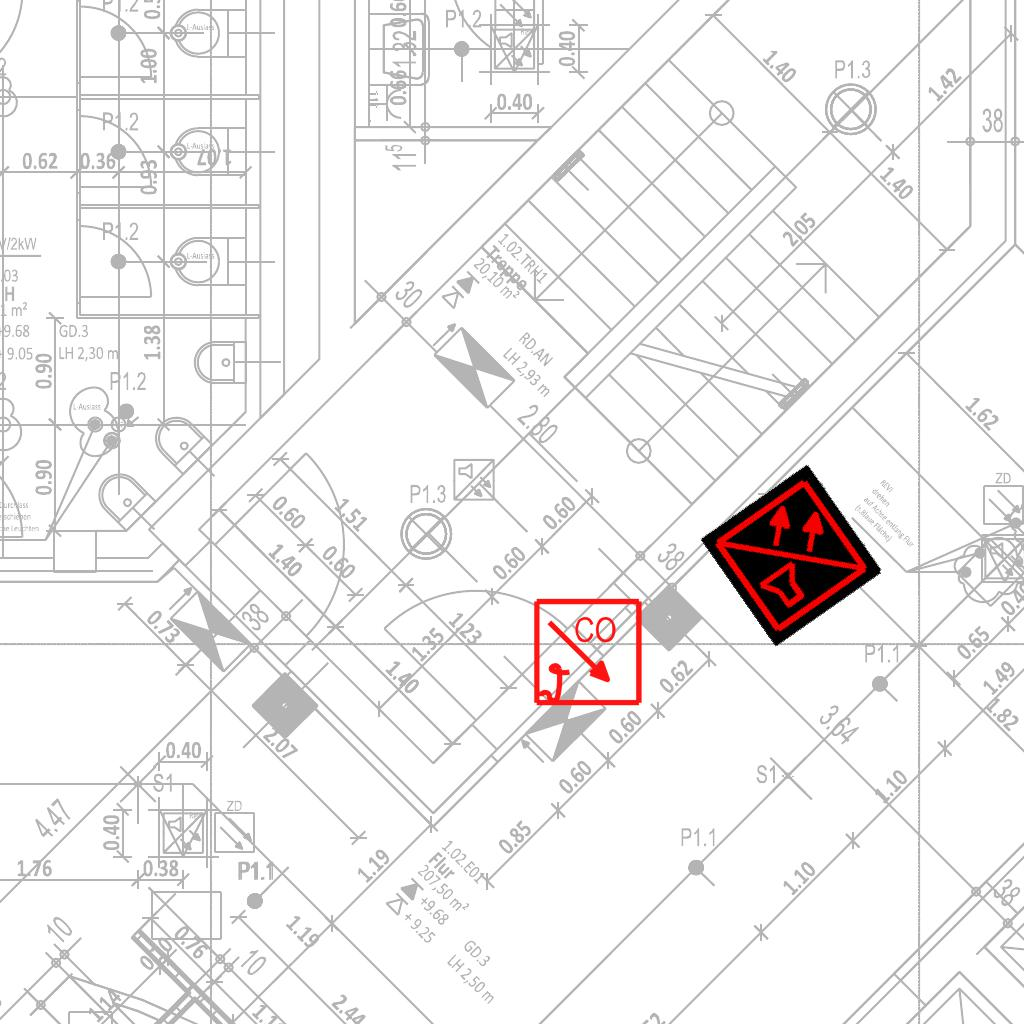OKW_Multisensormelder_(Kombination_optischer_Rauch-Kahlenmonoxid_Waerme-Melder): (700, 463, 884, 647)
ROA_Rauchmelder_optisch_mit_Signalgeber_(Sockelsirene): (532, 597, 645, 710)
